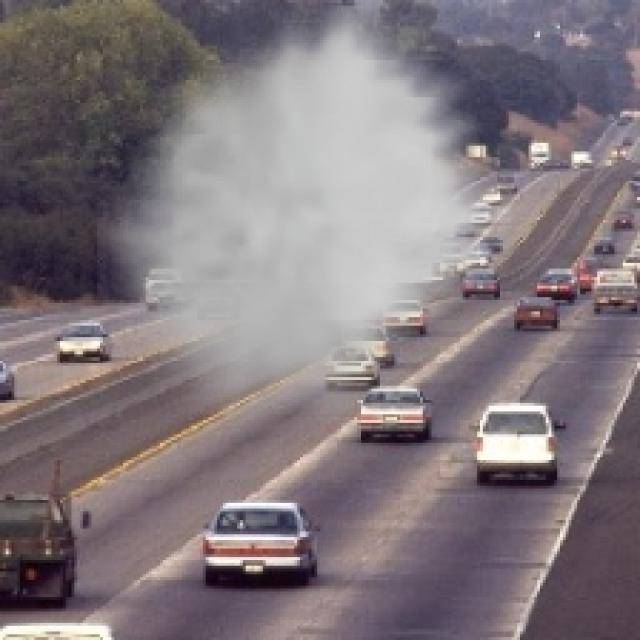Smoke: (97, 6, 512, 414)
